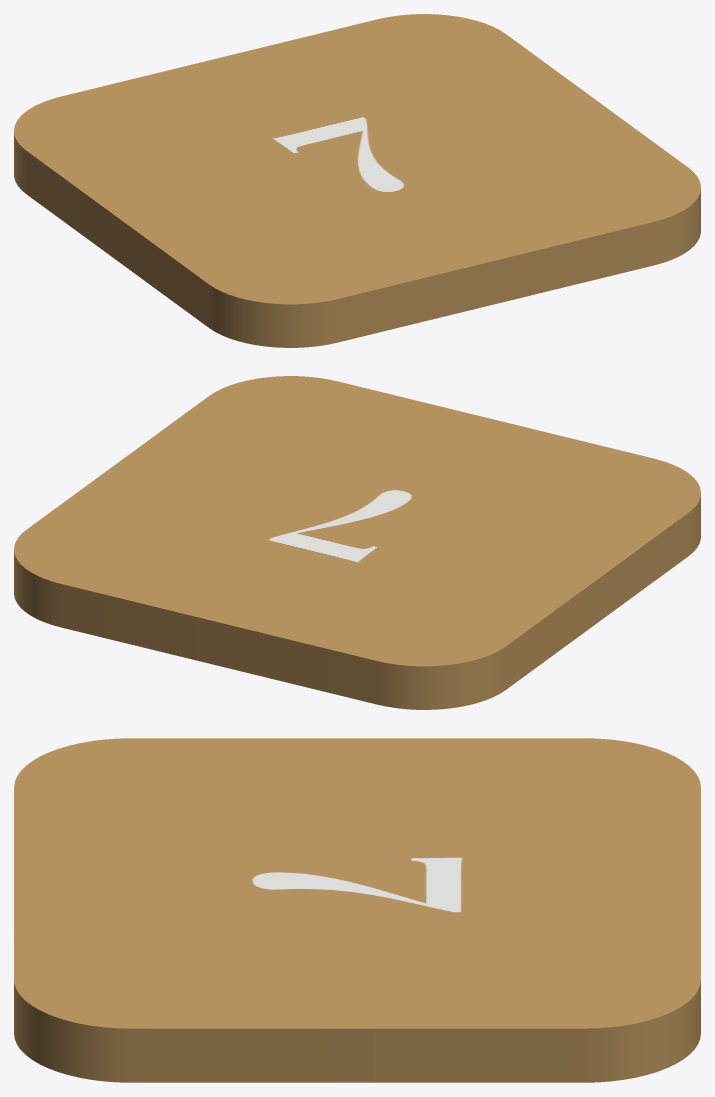
3 renders of one model, top to bottom at view 1: azimuth 30°, elevation 25°; view 2: azimuth 150°, elevation 25°; view 3: azimuth 270°, elevation 25°, orthographic. The views are drawn at different scales.
Visible parts, largest first — view 1: sq_7; view 2: sq_7; view 3: sq_7.
Part boxes in pixels (<box>): sq_7: <box>14,14,700,347</box>; sq_7: <box>14,376,700,709</box>; sq_7: <box>14,738,700,1082</box>.
Size of the model in its own units: 0.0276 by 0.0024 by 0.0276.
Materials: 3 (2 with a texture image).
